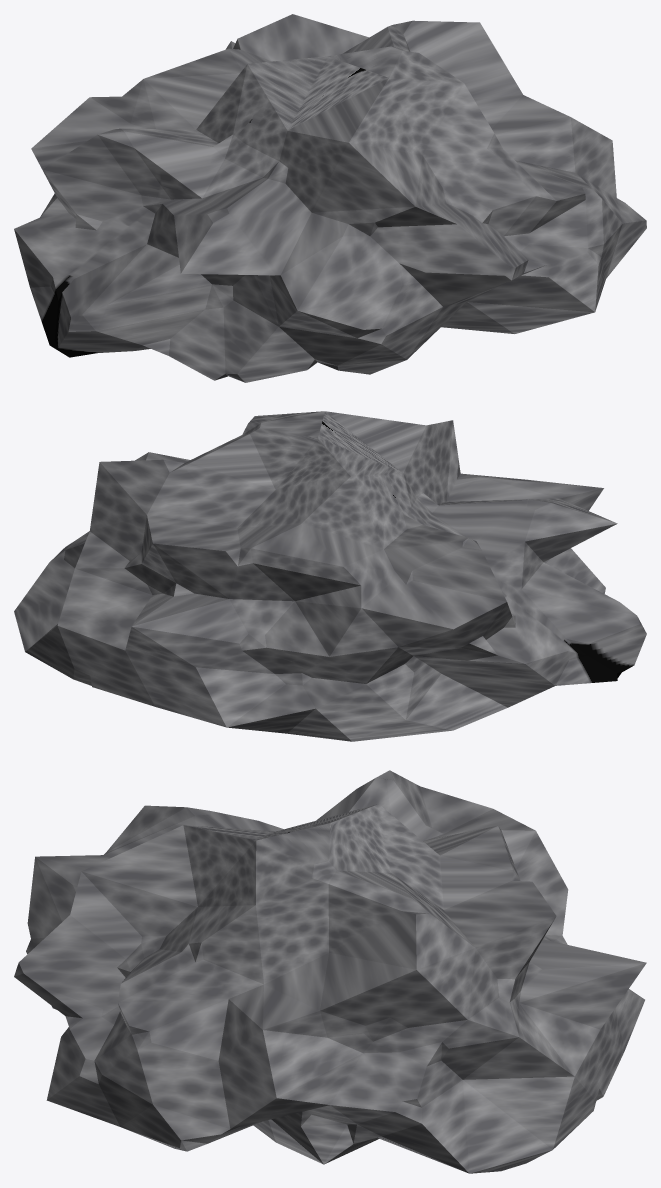
File: 암벽조각_01.fbx
3 views of the same model, one above another, from view 1: azimuth 30°, elevation 25°; view 2: azimuth 150°, elevation 25°; view 3: azimuth 270°, elevation 25° (orthographic). The views are drawn at different scales.
Visible parts, largest first — view 1: 암벽조각_01; view 2: 암벽조각_01; view 3: 암벽조각_01.
Part boxes in pixels (x1,y1,x2,y2): 암벽조각_01: (14, 14, 646, 382); 암벽조각_01: (14, 411, 646, 741); 암벽조각_01: (14, 770, 646, 1173).
Size of the model in its own units: 5919 by 2089 by 5353.
Materials: 1 (1 with a texture image).
